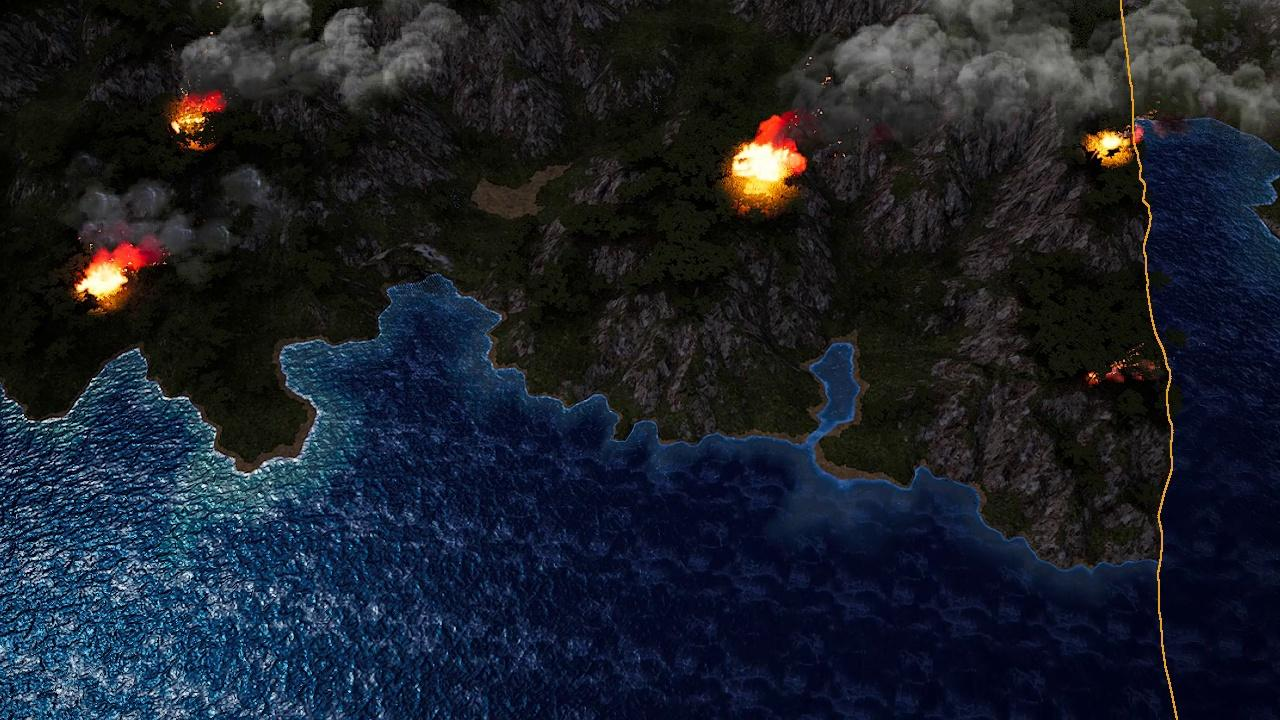fire: (730, 135, 804, 195), (77, 247, 143, 302), (173, 92, 227, 137), (1090, 131, 1129, 158), (1085, 362, 1123, 385)
smoke: (762, 0, 1123, 131), (174, 0, 467, 101), (76, 162, 289, 283), (1123, 0, 1275, 135)
